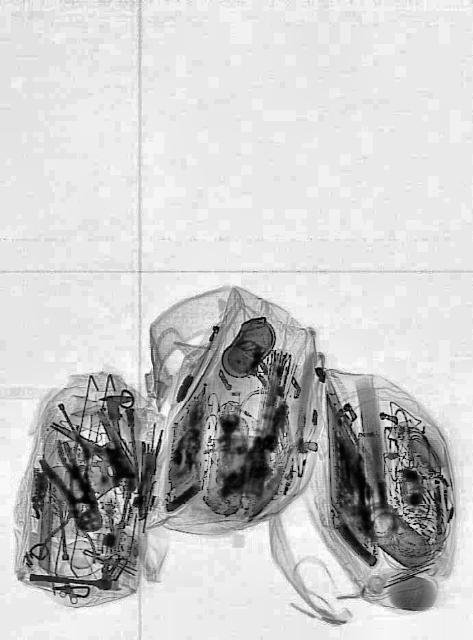Pliers: (36, 435, 110, 543), (54, 429, 106, 518)
